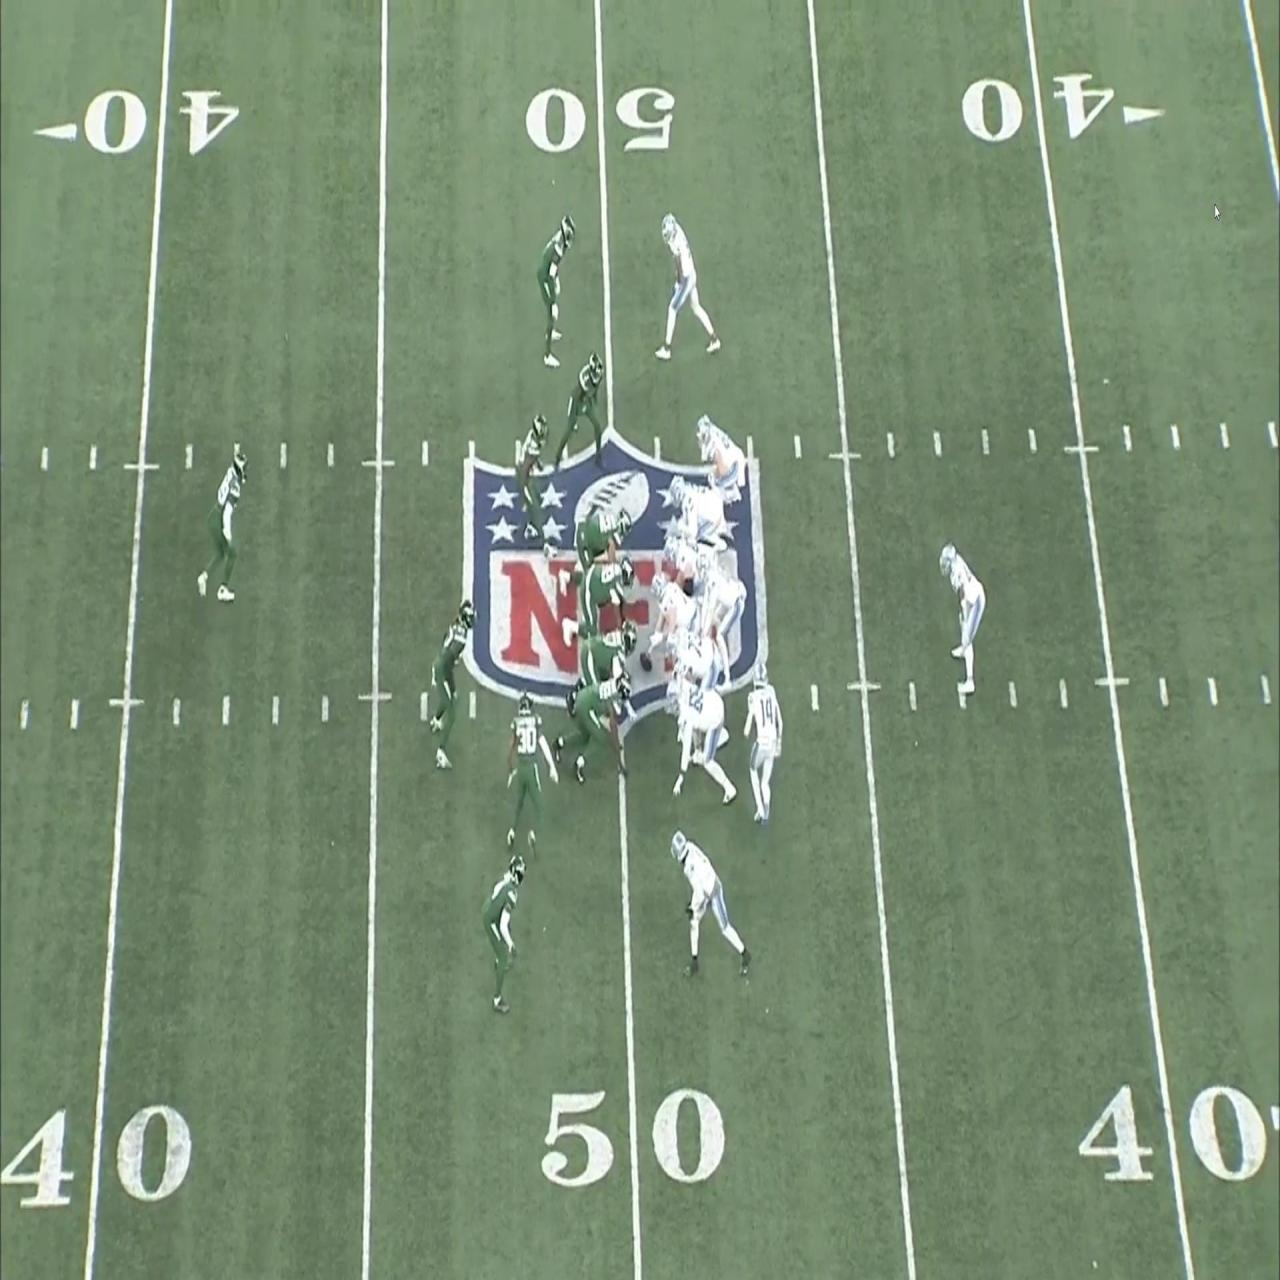40L: (0, 1105, 192, 1207), (32, 89, 241, 156)
40R: (1075, 1081, 1280, 1179), (958, 72, 1166, 141)
50: (539, 1089, 726, 1191), (522, 84, 675, 158)
